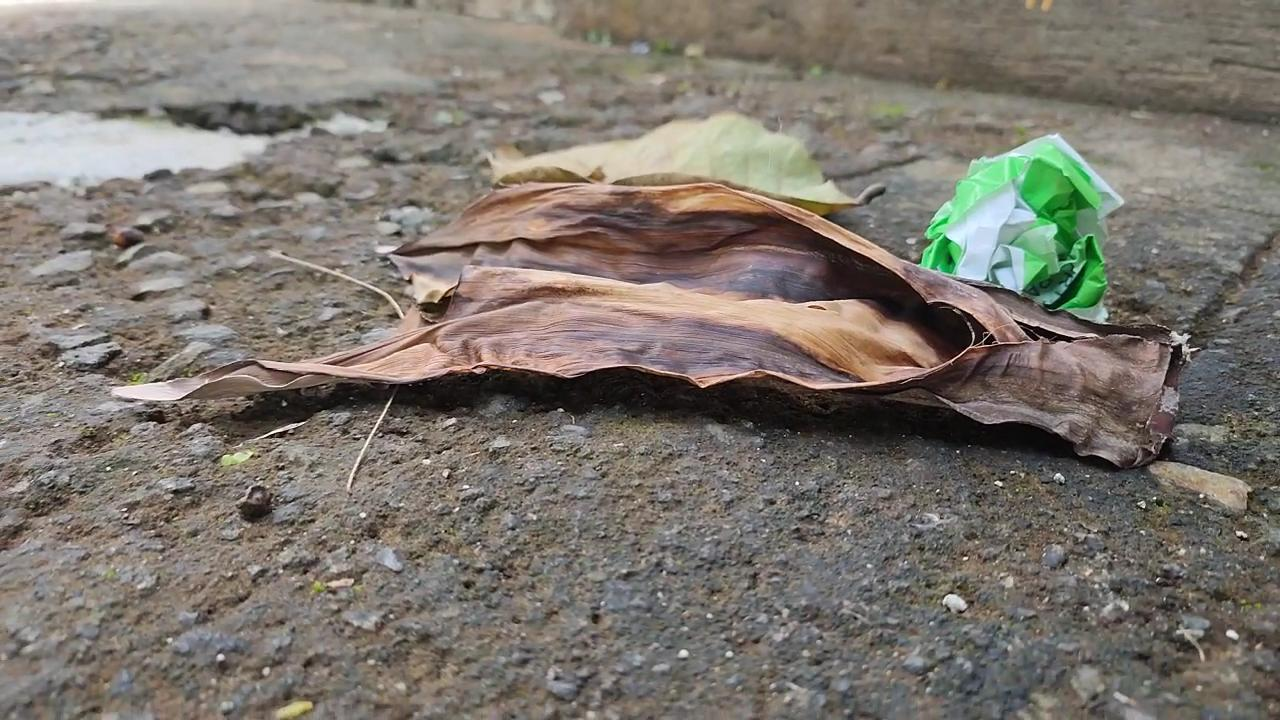Paper: (909, 117, 1134, 332)
